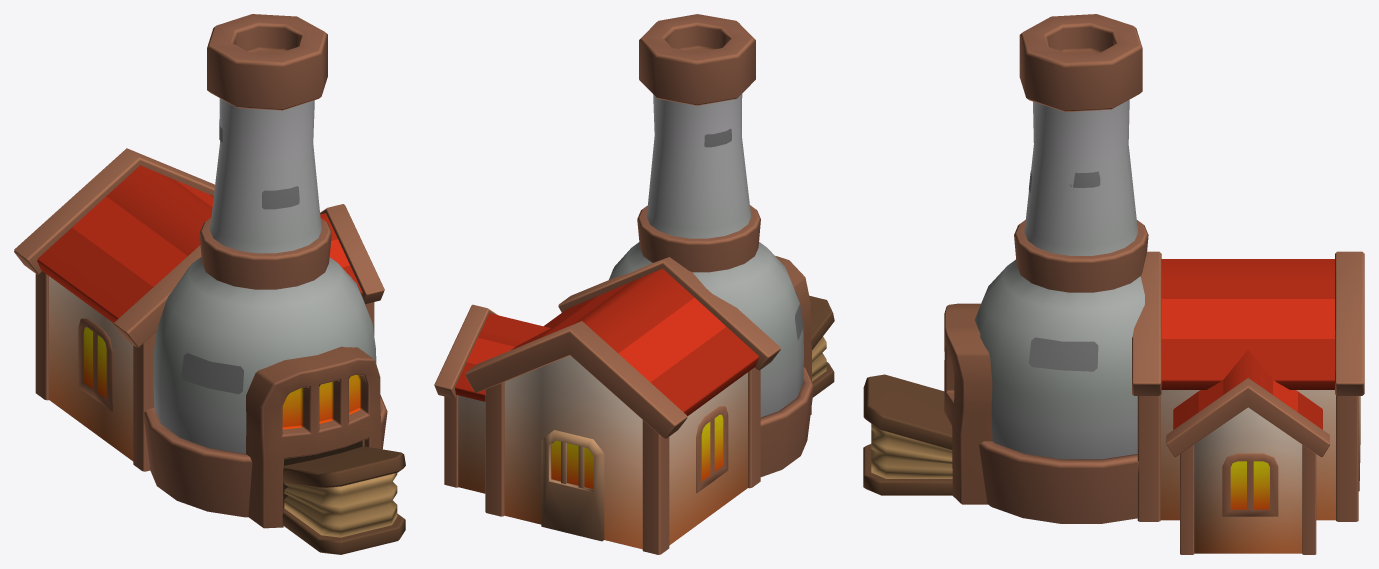
The model's file is Building_1.fbx.
The picture shows the model from 3 angles, left to right: view 1: azimuth 30°, elevation 25°; view 2: azimuth 150°, elevation 25°; view 3: azimuth 270°, elevation 25°; orthographic projection. The views are drawn at different scales.
Parts seen in each view (by area): view 1: Building_1; view 2: Building_1; view 3: Building_1.
Boxes of the visible parts, bbox=[...] form: Building_1: bbox=[14, 14, 405, 554]; Building_1: bbox=[434, 14, 834, 554]; Building_1: bbox=[863, 14, 1364, 554].
Size of the model in its own units: 300 by 450 by 466.
